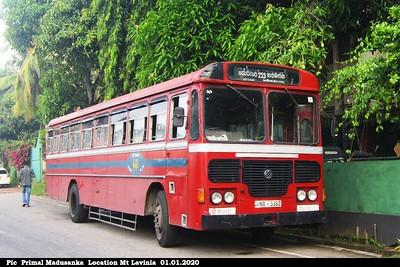bus: (42, 57, 327, 247)
